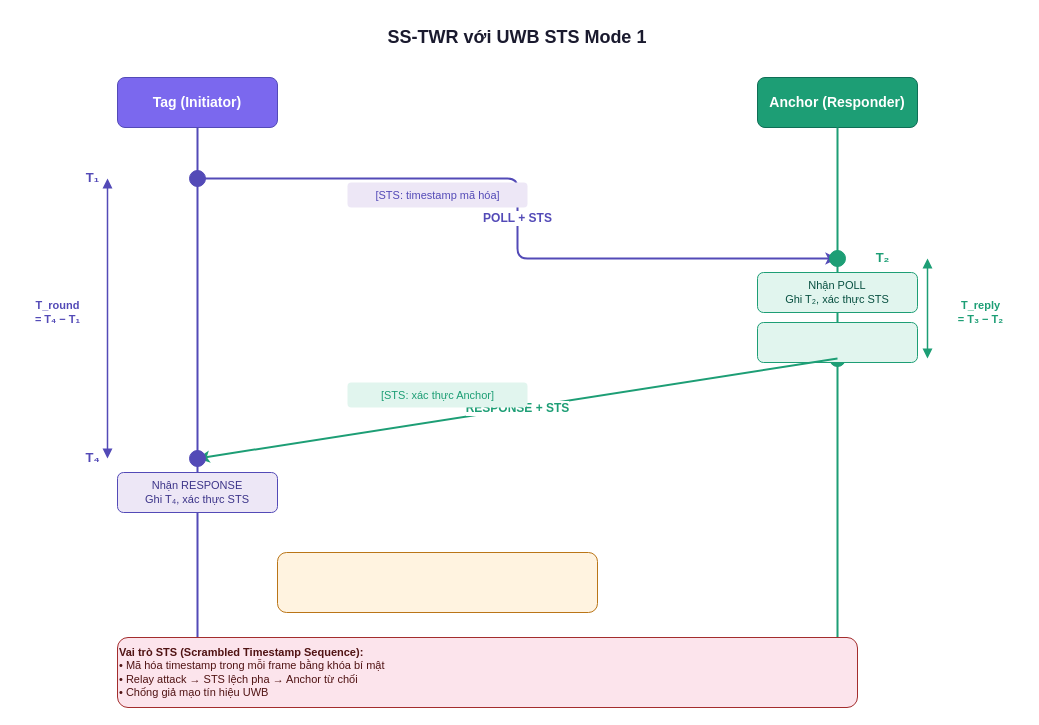
Image size: 1039x725. Some labels were removed from this diagram. The shapes that lost their labels are listed below. From the top down, each one's box as (x1, y1, x2, y2) in pixels, then its label:
(756, 322, 918, 362): Gửi RESPONSE + STS + T₂, T₃
(276, 552, 598, 612): Tính ToF tại Tag: ToF = (T_round − T_reply) / 2 Distance = ToF × c
